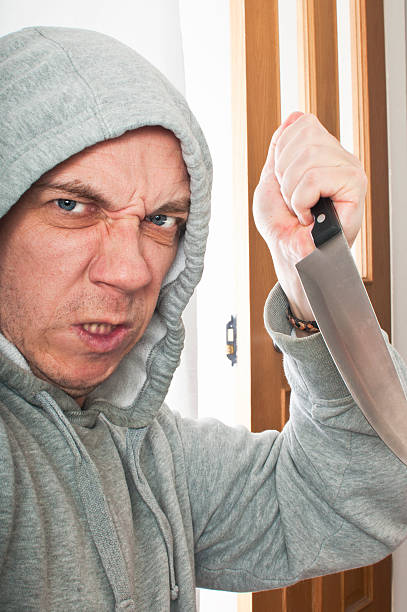knife: (293, 197, 407, 464)
